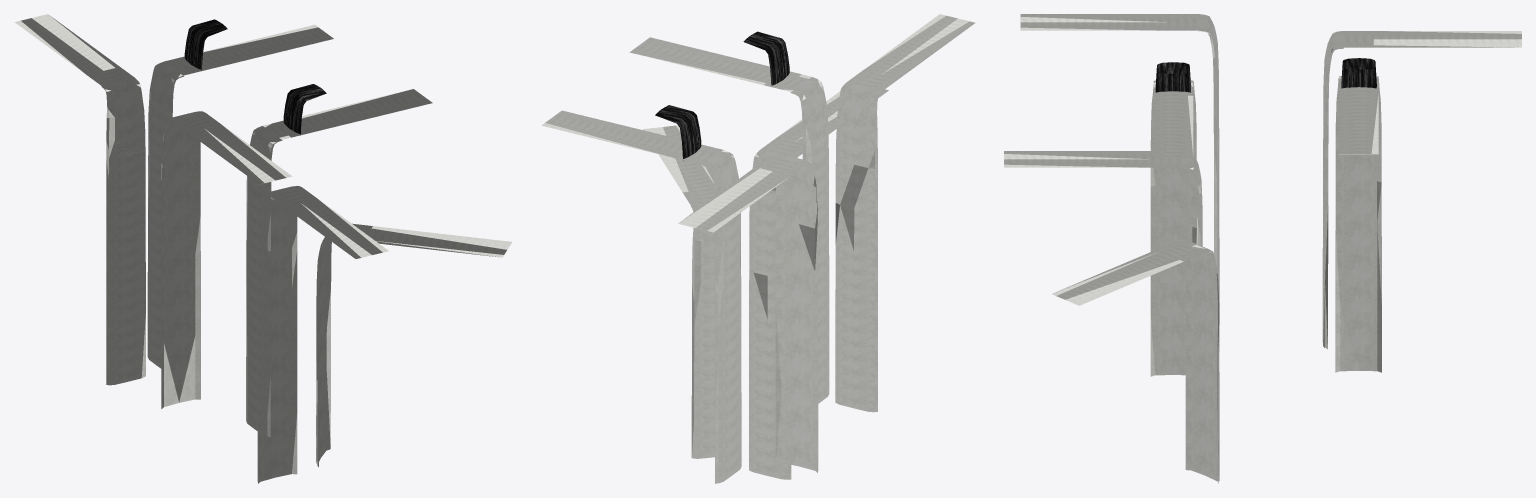
Rendered from stg110_MotWater_15.obj.
The picture shows the model from 3 angles, left to right: view 1: azimuth 30°, elevation 25°; view 2: azimuth 150°, elevation 25°; view 3: azimuth 270°, elevation 25°; orthographic projection. The views are drawn at different scales.
Visible parts, largest first — view 1: polygon8, polygon5, polygon10, polygon7, polygon0, polygon4, polygon6, polygon2, polygon3, polygon11, polygon12, polygon13 (+1 smaller); view 2: polygon4, polygon9, polygon0, polygon6, polygon10, polygon2, polygon8, polygon12, polygon13, polygon1, polygon5, polygon3; view 3: polygon1, polygon11, polygon3, polygon8, polygon4, polygon2, polygon6, polygon10, polygon0, polygon9, polygon13, polygon12 (+1 smaller).
Part boxes in pixels (x1=…): polygon8: x1=14, y1=14, x2=145, y2=385; polygon5: x1=161, y1=119, x2=200, y2=408; polygon10: x1=246, y1=89, x2=432, y2=436; polygon7: x1=258, y1=197, x2=297, y2=483; polygon0: x1=147, y1=24, x2=333, y2=368; polygon4: x1=161, y1=111, x2=292, y2=338; polygon6: x1=257, y1=185, x2=388, y2=481; polygon2: x1=316, y1=223, x2=512, y2=463; polygon3: x1=317, y1=239, x2=331, y2=467; polygon11: x1=267, y1=140, x2=282, y2=436; polygon12: x1=184, y1=19, x2=227, y2=69; polygon13: x1=283, y1=84, x2=326, y2=135; polygon4: x1=835, y1=14, x2=975, y2=412; polygon9: x1=775, y1=163, x2=817, y2=472; polygon0: x1=541, y1=110, x2=741, y2=483; polygon6: x1=749, y1=89, x2=888, y2=479; polygon10: x1=629, y1=37, x2=829, y2=403; polygon2: x1=643, y1=125, x2=714, y2=458; polygon8: x1=678, y1=153, x2=818, y2=470; polygon12: x1=655, y1=105, x2=701, y2=160; polygon13: x1=743, y1=31, x2=789, y2=85; polygon1: x1=702, y1=165, x2=718, y2=483; polygon5: x1=874, y1=91, x2=882, y2=411; polygon3: x1=691, y1=206, x2=714, y2=458; polygon1: x1=1335, y1=78, x2=1381, y2=372; polygon11: x1=1150, y1=81, x2=1196, y2=376; polygon3: x1=1185, y1=251, x2=1218, y2=483; polygon8: x1=1322, y1=31, x2=1521, y2=347; polygon4: x1=1020, y1=14, x2=1219, y2=324; polygon2: x1=1051, y1=239, x2=1219, y2=480; polygon6: x1=1004, y1=151, x2=1202, y2=246; polygon10: x1=1153, y1=80, x2=1193, y2=158; polygon0: x1=1339, y1=76, x2=1378, y2=154; polygon9: x1=1325, y1=47, x2=1343, y2=349; polygon13: x1=1155, y1=62, x2=1190, y2=92; polygon12: x1=1341, y1=58, x2=1376, y2=88.
Size of the model in its own units: 1531 by 2010 by 2347.
